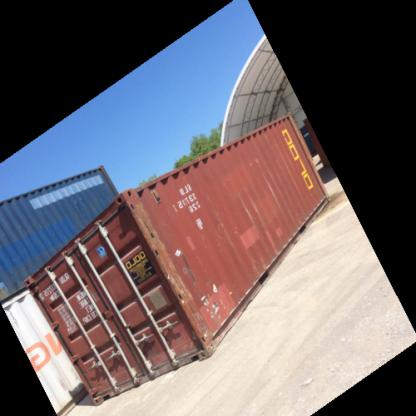Damage: (164, 243, 233, 341), (233, 189, 277, 257), (129, 201, 164, 266), (274, 150, 306, 198), (211, 209, 230, 239), (191, 210, 207, 236), (242, 153, 264, 169)
